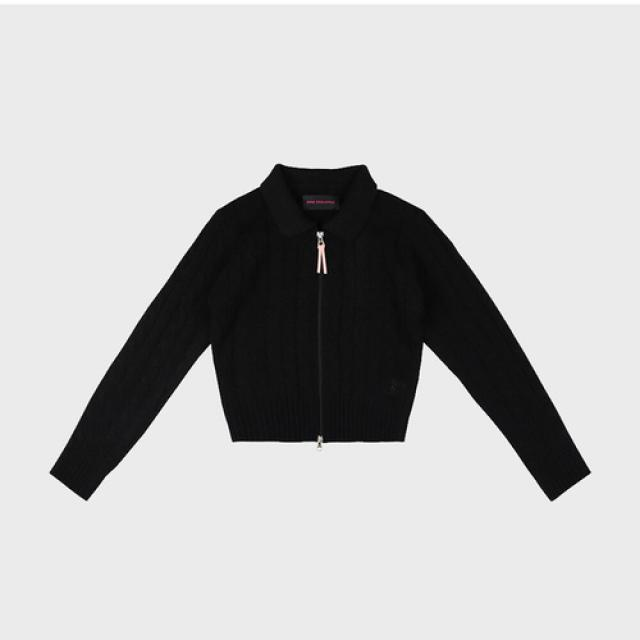Blouse_deep: (55, 168, 597, 502)
